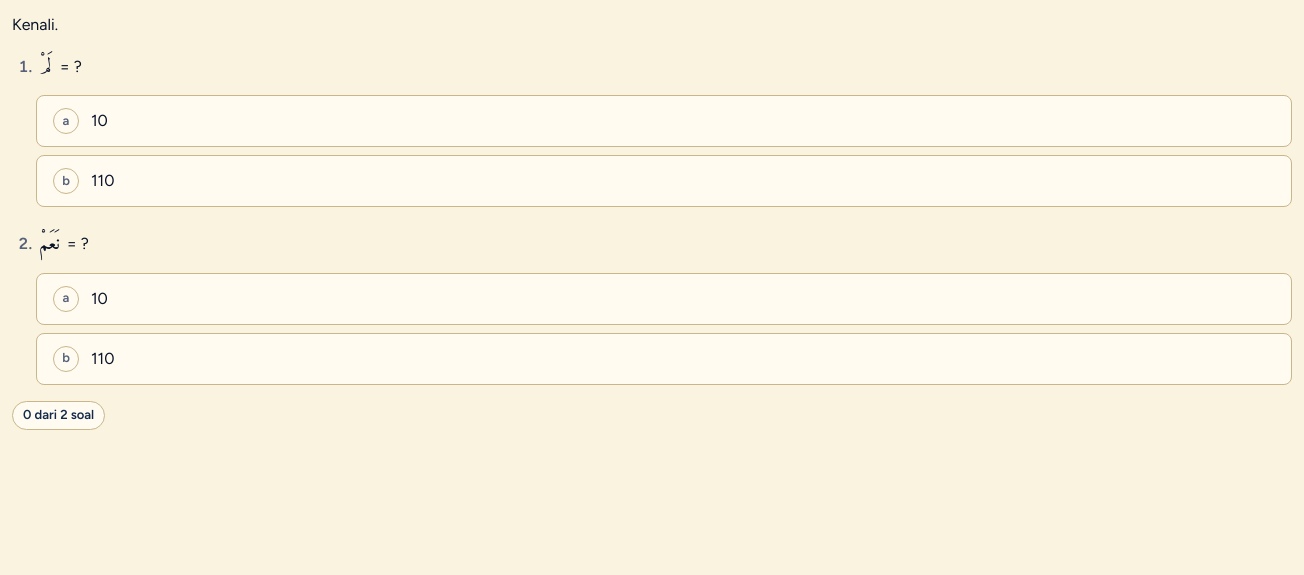
Test case: tamrinat bertingkat › set kenali: skor percobaan pertama setelah semua soal dijawab
The width and height of the screenshot is (1304, 575).
Click the button "a 10" below "لَمْ" at (66, 121), box [36, 95, 1292, 147]
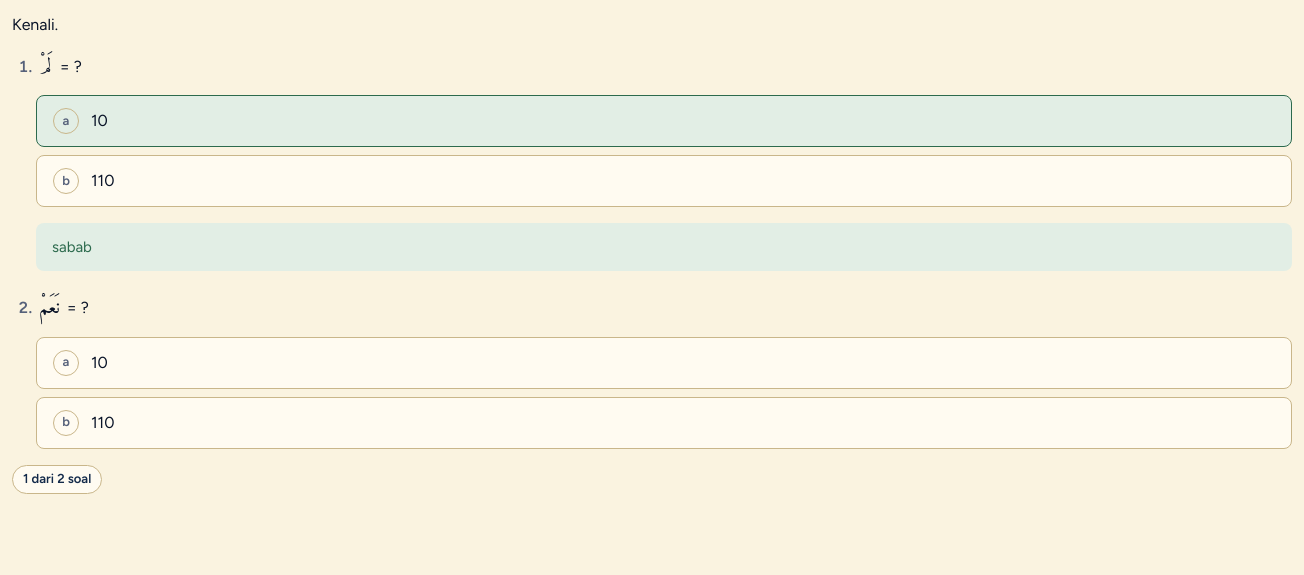
Click the button "a 10" below "نَعَمْ" at (66, 363), box [36, 337, 1292, 389]
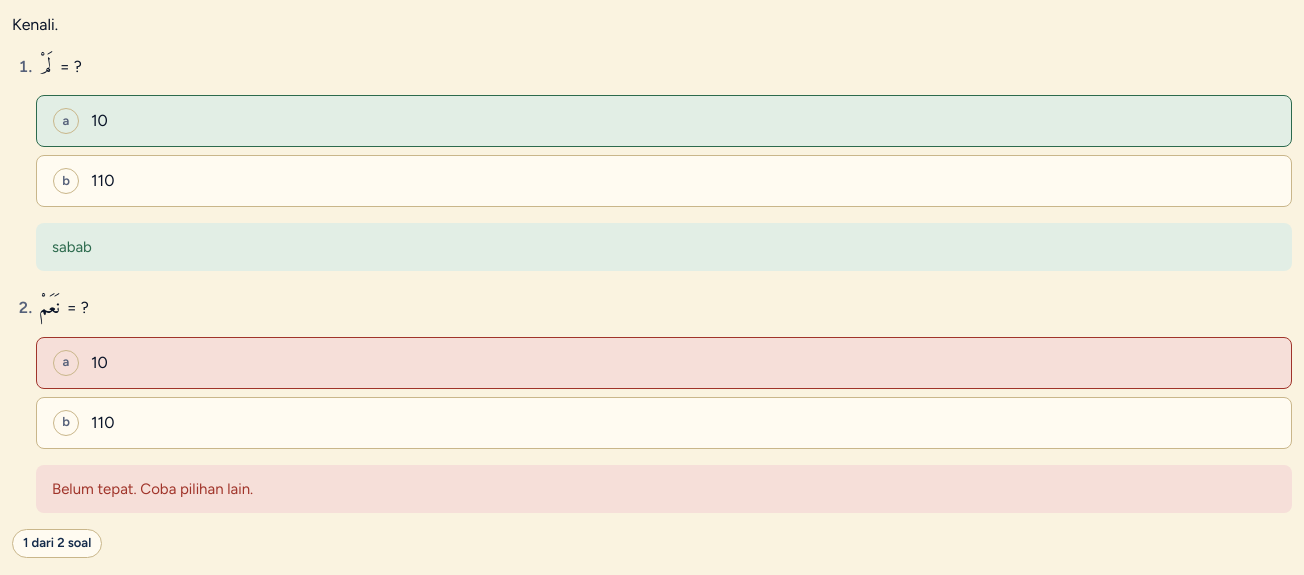
Click the button "b 110" below "نَعَمْ" at (66, 423), box [36, 397, 1292, 449]
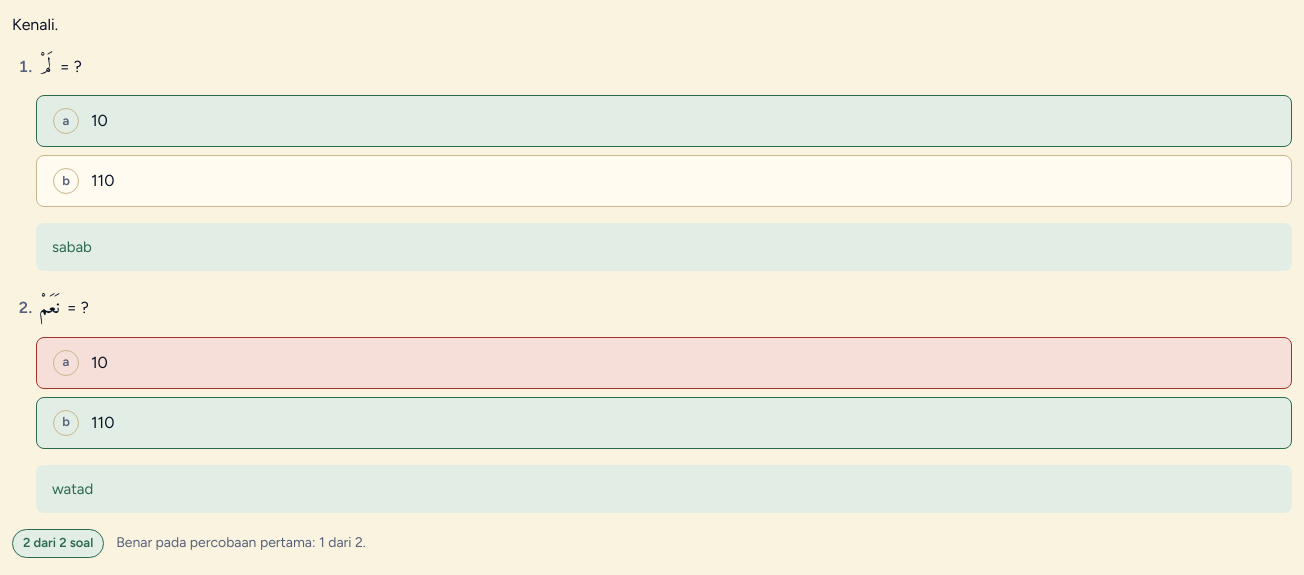
Result: the text "2 dari 2 soal" is shown at [12, 529, 104, 558]
Result: the text "Benar pada percobaan pertama: 1 dari 2." is shown at [116, 532, 366, 554]
